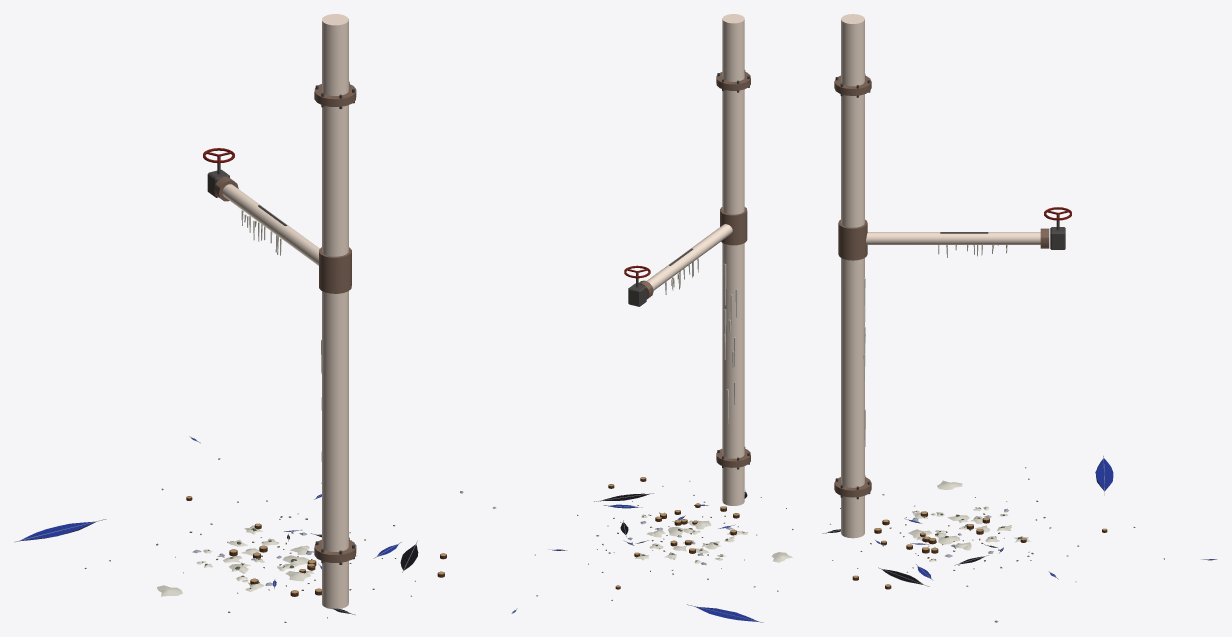
The model's file is jerry_perch.glb.
The picture shows the model from 3 angles, left to right: view 1: azimuth 30°, elevation 25°; view 2: azimuth 150°, elevation 25°; view 3: azimuth 270°, elevation 25°; orthographic projection. The views are drawn at different scales.
Visible parts, largest first — view 1: teil0, teil1, teil6, teil10; view 2: teil0, teil1, teil6, teil5, teil10, teil12; view 3: teil0, teil1, teil6, teil10.
Part boxes in pixels (<box>): teil0: <box>222,14,348,609</box>; teil1: <box>214,84,356,562</box>; teil6: <box>157,525,357,596</box>; teil10: <box>20,438,398,586</box>; teil0: <box>646,14,744,505</box>; teil1: <box>638,72,750,467</box>; teil6: <box>635,514,792,563</box>; teil5: <box>665,258,737,424</box>; teil10: <box>512,504,758,621</box>; teil12: <box>608,477,739,589</box>; teil0: <box>841,14,1040,538</box>; teil1: <box>834,75,1049,497</box>; teil6: <box>908,480,1030,561</box>; teil10: <box>876,458,1215,578</box>.
Bounding box in the file's own units: 1.81 × 2.6 × 1.81.
